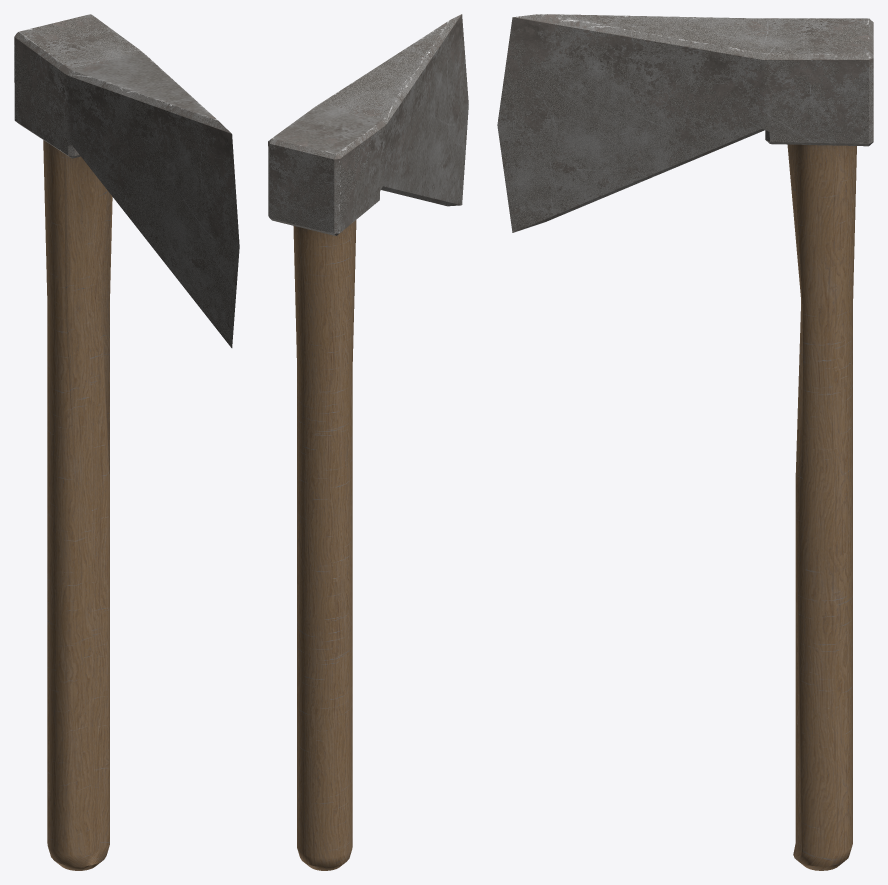
Rendered from SM_Axe.gltf.
3 views of the same model, side by side, from view 1: azimuth 30°, elevation 25°; view 2: azimuth 150°, elevation 25°; view 3: azimuth 270°, elevation 25° (orthographic). The views are drawn at different scales.
Visible parts, largest first — view 1: SM_Axe; view 2: SM_Axe; view 3: SM_Axe.
Boxes of the visible parts, box(x1,y1,x2,y2) form: SM_Axe: box(14, 14, 239, 870); SM_Axe: box(268, 14, 468, 870); SM_Axe: box(497, 14, 873, 870).
Bounding box in the file's own units: 0.052 × 0.5215 × 0.2087.
Materials: 1 (1 with a texture image).
